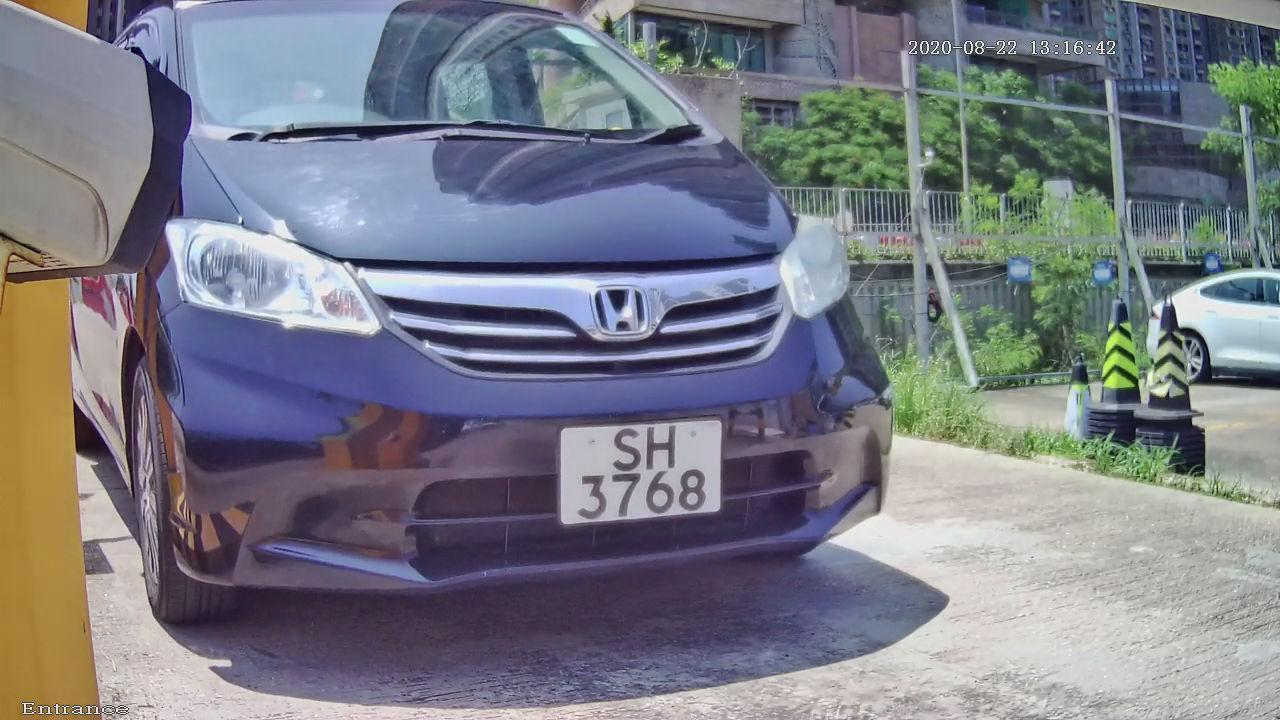Car: (29, 1, 949, 679)
License Plate: (549, 402, 738, 537)
